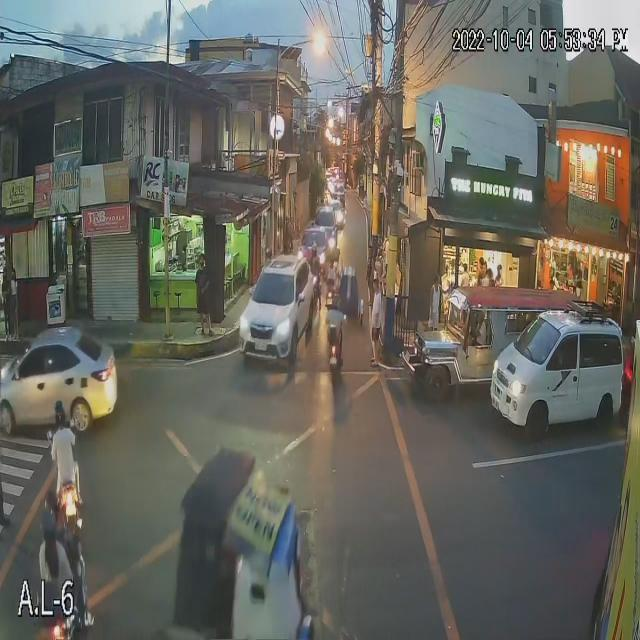helmet: (41, 504, 57, 537), (44, 489, 61, 515), (53, 401, 67, 428)
motorcycle: (55, 481, 87, 534)
rider: (37, 537, 72, 600), (51, 431, 80, 482)
